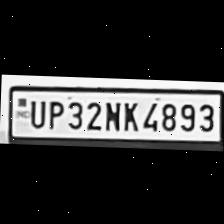2: (82, 98, 102, 130)
3: (195, 97, 215, 130), (64, 97, 82, 128)
4: (139, 97, 159, 130)
8: (158, 98, 176, 130)
9: (176, 99, 196, 130)
K: (118, 97, 138, 130)
N: (102, 98, 122, 130)
P: (44, 96, 64, 128)
U: (26, 96, 44, 128)
